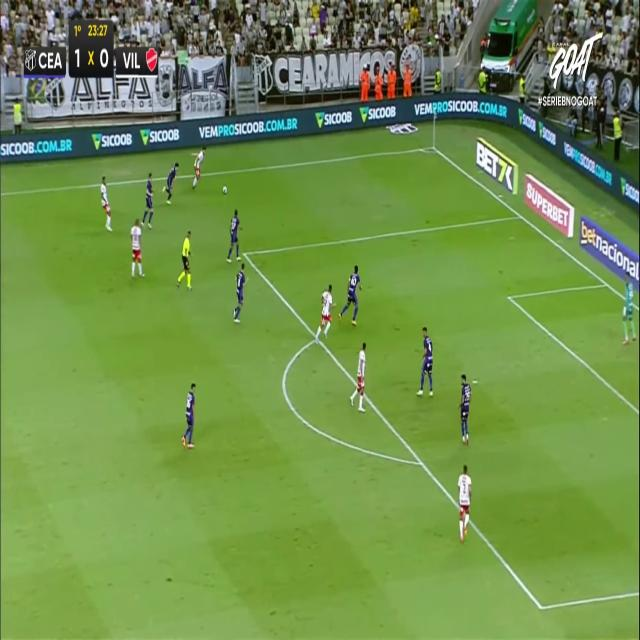ball: (222, 183, 229, 196)
goalkeeper: (621, 271, 636, 344)
player: (338, 264, 361, 325), (416, 326, 433, 397), (349, 341, 366, 411), (457, 463, 472, 540), (226, 207, 243, 262), (316, 284, 333, 339), (233, 260, 247, 322), (458, 373, 470, 444), (181, 383, 194, 448), (130, 217, 143, 277), (162, 161, 180, 203), (100, 175, 112, 230), (142, 172, 154, 227), (191, 147, 204, 188)
referee: (176, 230, 192, 289)
